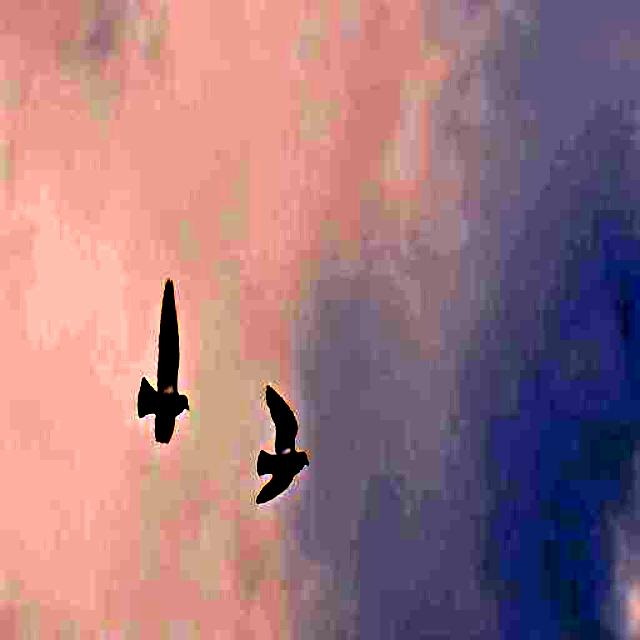airplane: (124, 241, 191, 459), (245, 371, 318, 536)
